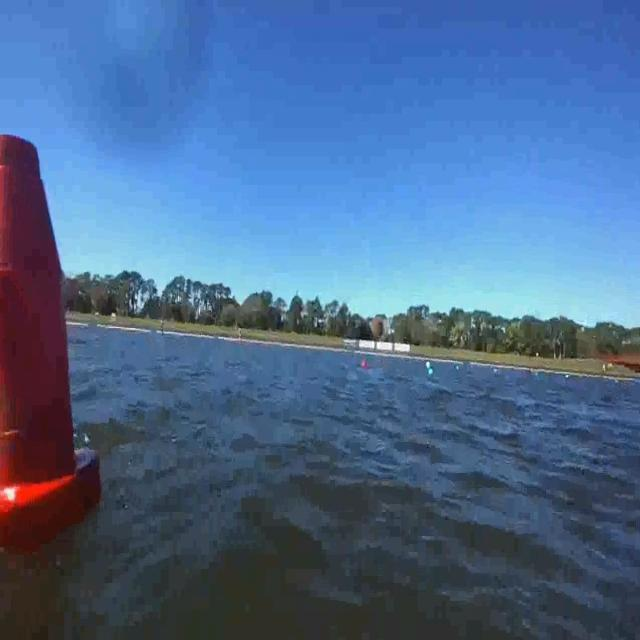red-column-buoy: (1, 111, 104, 534)
